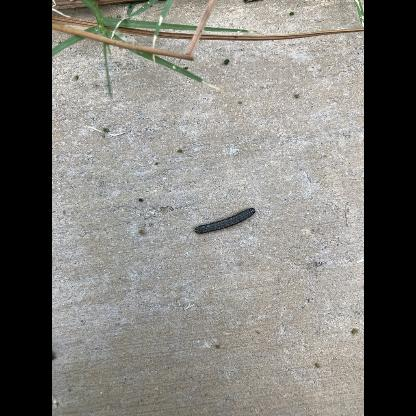Fall Armyworm Larvae: (193, 206, 256, 236)
